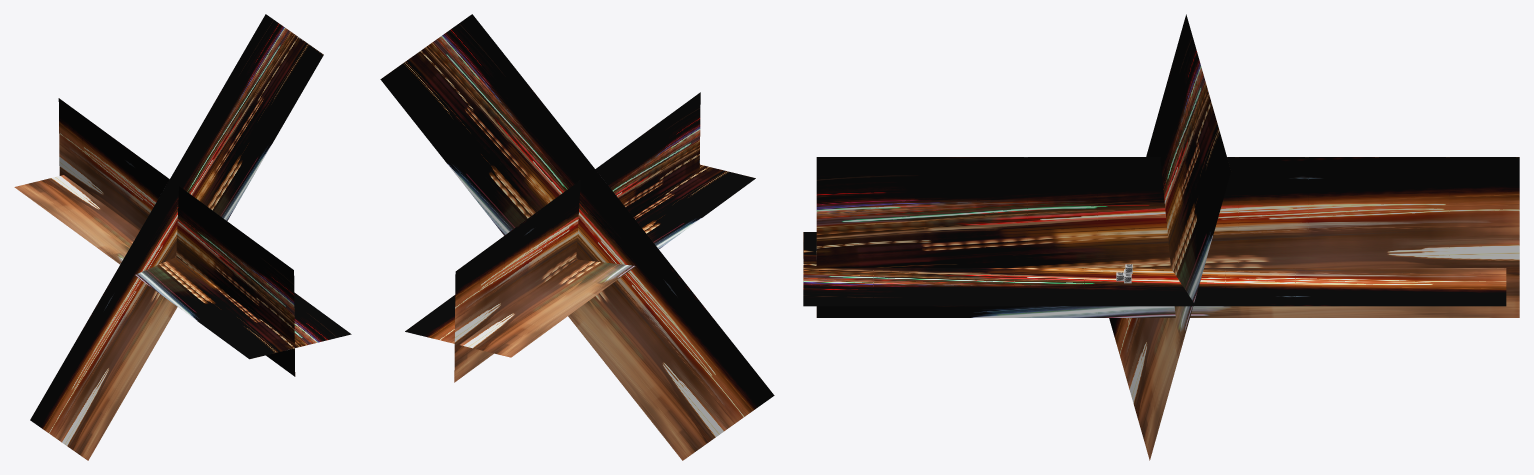
The model's file is 01(custom).gltf.
3 renders of one model, left to right at view 1: azimuth 30°, elevation 25°; view 2: azimuth 150°, elevation 25°; view 3: azimuth 270°, elevation 25°, orthographic. The views are drawn at different scales.
Visible parts, largest first — view 1: Plane.2, Plane.1, Plane; view 2: Plane.2, Plane.1, Plane; view 3: Plane.1, Plane, Plane.2.
Part boxes in pixels (left/top/right/bottom): Plane.2: left=30, top=14, right=323, bottom=460; Plane.1: left=58, top=98, right=295, bottom=376; Plane: left=14, top=175, right=351, bottom=359; Plane.2: left=380, top=14, right=774, bottom=460; Plane.1: left=454, top=92, right=700, bottom=382; Plane: left=405, top=164, right=755, bottom=357; Plane.1: left=816, top=157, right=1519, bottom=317; Plane: left=803, top=232, right=1506, bottom=306; Plane.2: left=1109, top=14, right=1230, bottom=460.
Bounding box in the file's own units: 15586 × 17354 × 19248.
2 materials, 2 textured.
